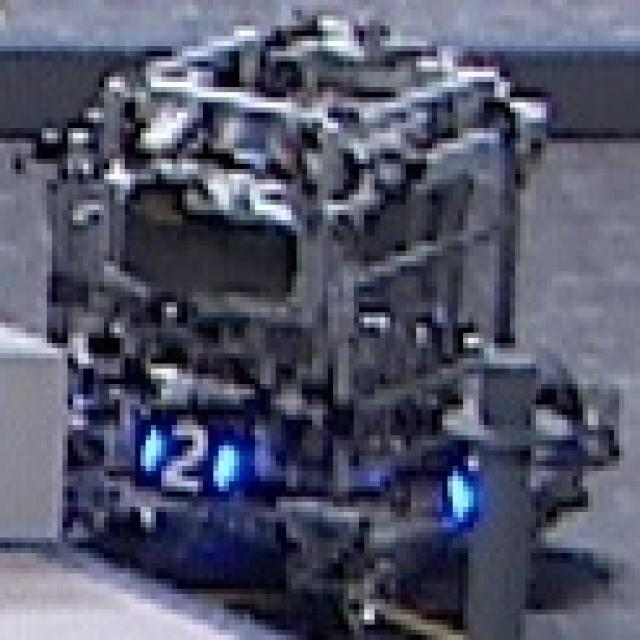B2: (136, 415, 240, 486)
